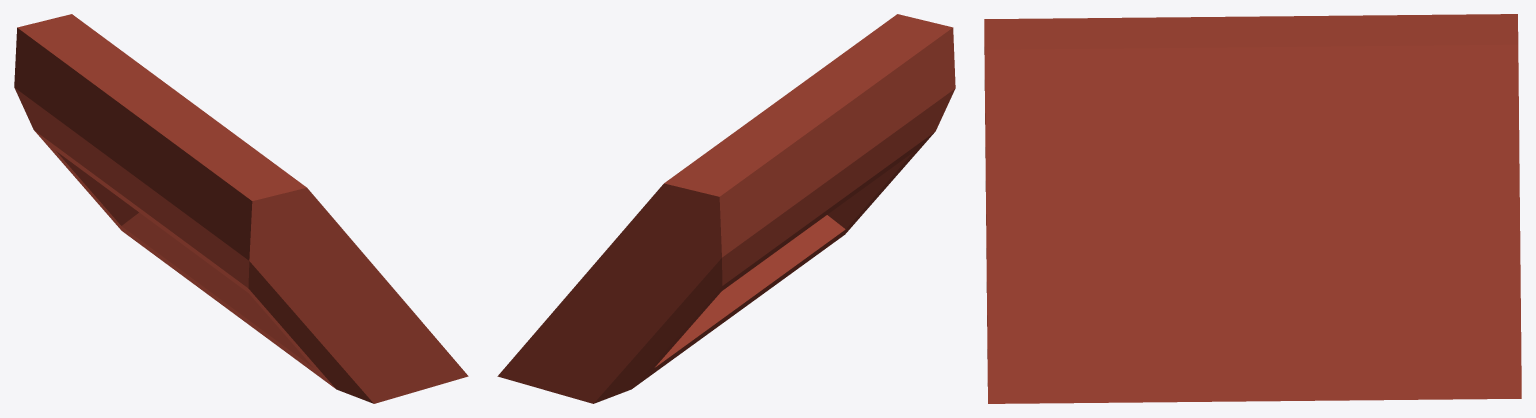
File: Fighter_07_Detail_Red.fbx
3 views of the same model, side by side, from view 1: azimuth 30°, elevation 25°; view 2: azimuth 150°, elevation 25°; view 3: azimuth 270°, elevation 25° (orthographic). The views are drawn at different scales.
Parts seen in each view (by area): view 1: Fighter_07_Detail_Red; view 2: Fighter_07_Detail_Red; view 3: Fighter_07_Detail_Red.
Part boxes in pixels (bbox=[...]): Fighter_07_Detail_Red: bbox=[14, 14, 468, 403]; Fighter_07_Detail_Red: bbox=[497, 14, 955, 403]; Fighter_07_Detail_Red: bbox=[984, 14, 1521, 403].
Size of the model in its own units: 51.86 by 52.8 by 94.64.
1 material, 1 textured.
